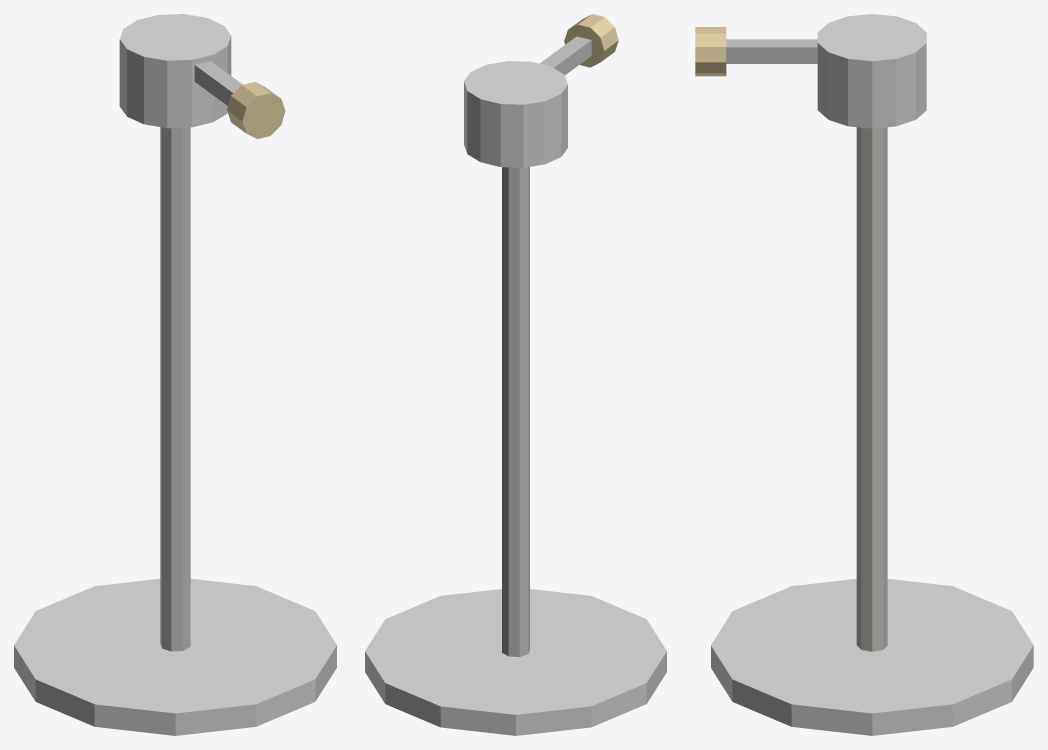
Rendered from vaporizador_ozonio.glb.
3 renders of one model, left to right at view 1: azimuth 30°, elevation 25°; view 2: azimuth 150°, elevation 25°; view 3: azimuth 270°, elevation 25°, orthographic. The views are drawn at different scales.
Visible parts, largest first — view 1: vaporizador_ozonio; view 2: vaporizador_ozonio; view 3: vaporizador_ozonio.
Boxes of the visible parts, x1,y1,x2,y2 form: vaporizador_ozonio: [14, 14, 336, 735]; vaporizador_ozonio: [365, 14, 666, 735]; vaporizador_ozonio: [695, 14, 1033, 735].
Bounding box in the file's own units: 0.52 × 1.13 × 0.545.
